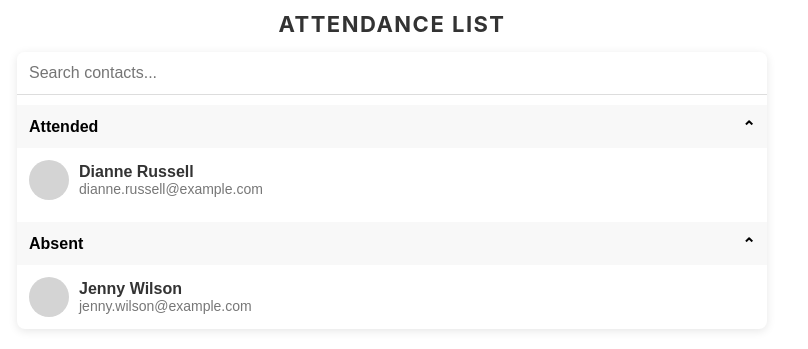
Test: SearchComponent › filters contact list based on search input
The width and height of the screenshot is (808, 349).
Type "Dianne" into the field with placeholder "Search contacts...".
click(404, 74); type("Dianne")  # box [17,52,791,95]
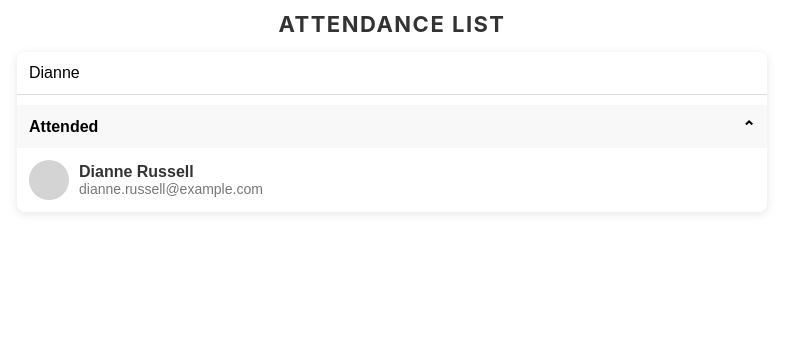
expect the text "Dianne Russell" is shown: met, box [79,163,194,180]
expect the text "Jenny Wilson" is gone: met
